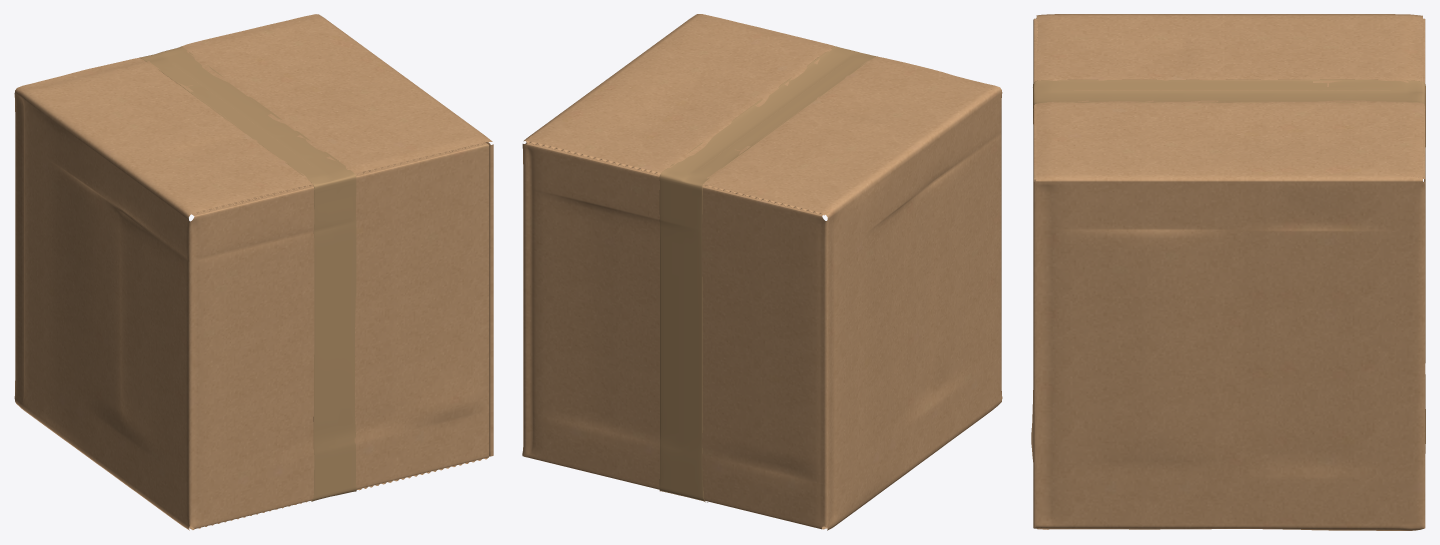
Rendered from cardboardBox.glb.
3 renders of one model, left to right at view 1: azimuth 30°, elevation 25°; view 2: azimuth 150°, elevation 25°; view 3: azimuth 270°, elevation 25°, orthographic. The views are drawn at different scales.
Visible parts, largest first — view 1: cardboardBox_03_cardBox, cardboardBox_03_tape, cardboardBox_03_cardBoxInside; view 2: cardboardBox_03_cardBox, cardboardBox_03_tape, cardboardBox_03_cardBoxInside; view 3: cardboardBox_03_cardBox, cardboardBox_03_tape.
Boxes of the visible parts, <box> form: cardboardBox_03_cardBox: <box>14,14,493,530</box>; cardboardBox_03_tape: <box>139,46,356,501</box>; cardboardBox_03_cardBoxInside: <box>187,14,488,529</box>; cardboardBox_03_cardBox: <box>522,14,1002,530</box>; cardboardBox_03_tape: <box>659,46,877,502</box>; cardboardBox_03_cardBoxInside: <box>526,89,991,528</box>; cardboardBox_03_cardBox: <box>1031,14,1425,530</box>; cardboardBox_03_tape: <box>1033,79,1425,453</box>.
Size of the model in its own units: 35.9 by 35.86 by 35.89.
Materials: 2 (1 with a texture image).
